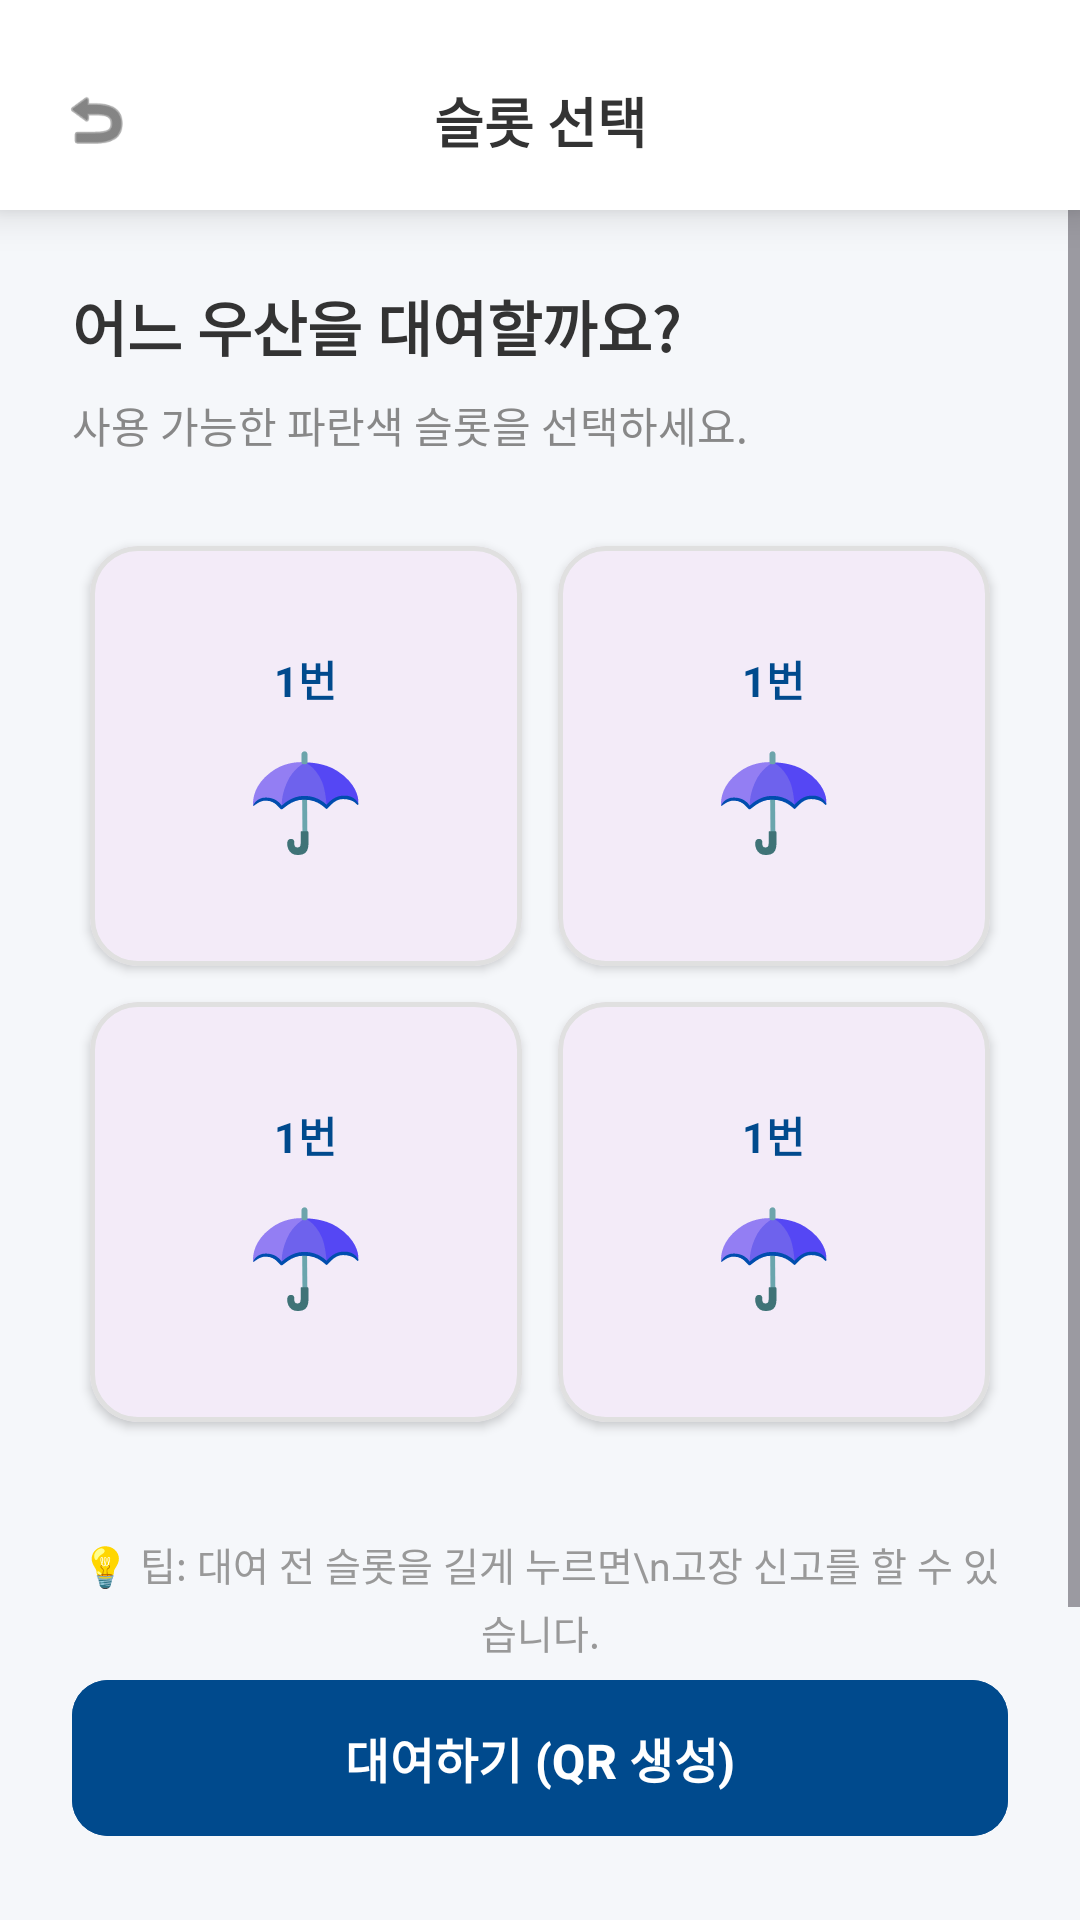

Point at icon controls on the screen. Image size 1080×1920, points as (x,y).
revert: (97,120)
